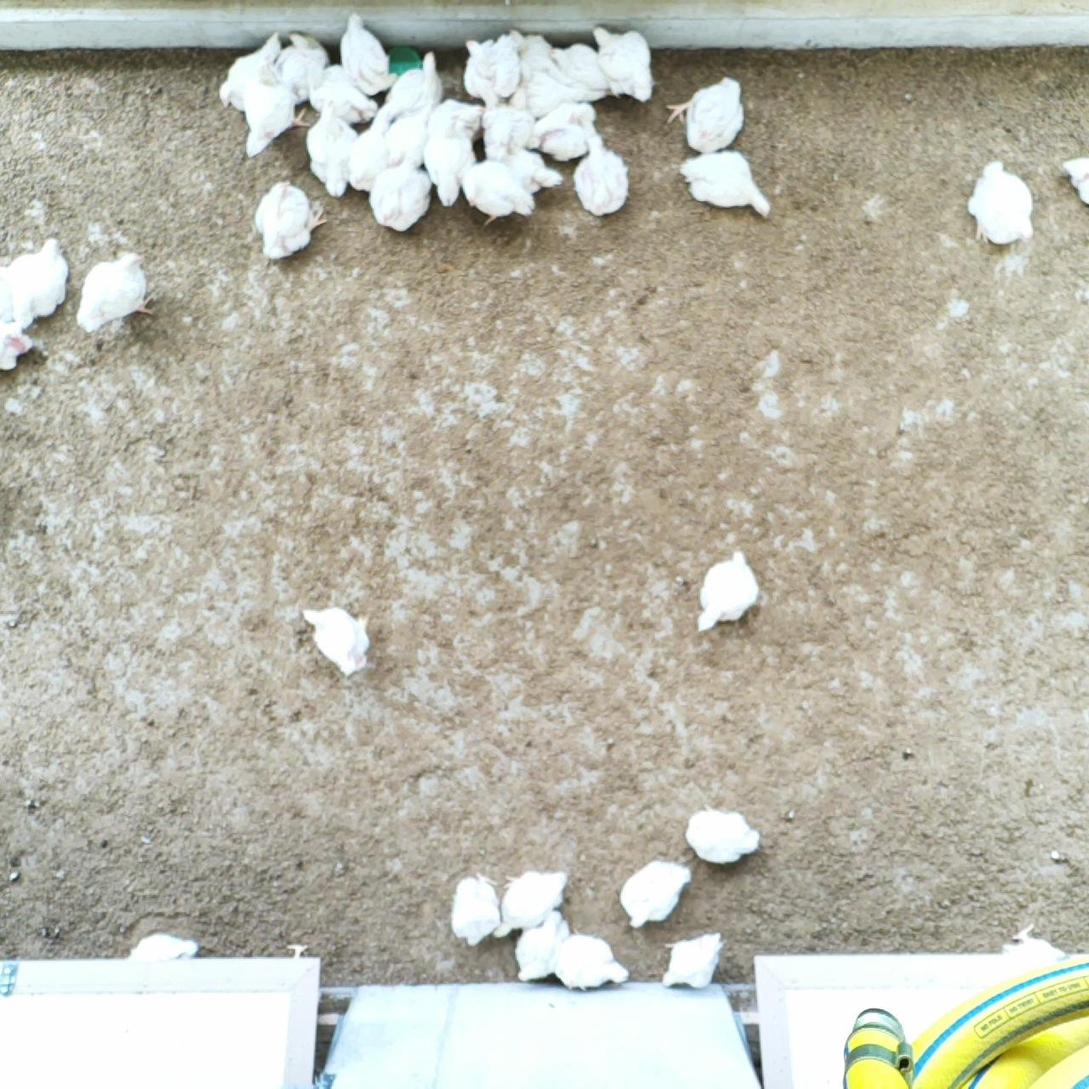chicken: (74, 245, 161, 338), (675, 147, 773, 226), (239, 54, 311, 159), (961, 157, 1039, 250), (665, 75, 750, 157), (249, 178, 330, 263), (213, 28, 290, 117), (452, 156, 540, 232), (5, 233, 72, 332), (365, 142, 435, 235), (694, 546, 764, 638), (296, 600, 376, 680), (420, 108, 481, 211), (302, 95, 362, 199), (585, 21, 657, 107), (339, 100, 398, 202), (618, 856, 697, 931), (335, 8, 401, 97), (493, 865, 570, 941), (306, 57, 383, 131), (680, 801, 763, 869), (570, 131, 633, 218), (552, 927, 631, 995), (511, 907, 576, 986), (447, 867, 505, 951), (383, 48, 447, 123), (549, 38, 618, 106), (658, 928, 730, 993), (529, 101, 601, 164), (275, 28, 332, 105), (382, 103, 439, 174), (480, 102, 539, 164), (497, 145, 565, 197), (426, 95, 489, 144), (123, 928, 201, 962), (510, 25, 555, 79), (1055, 151, 1089, 212), (0, 318, 34, 376)
